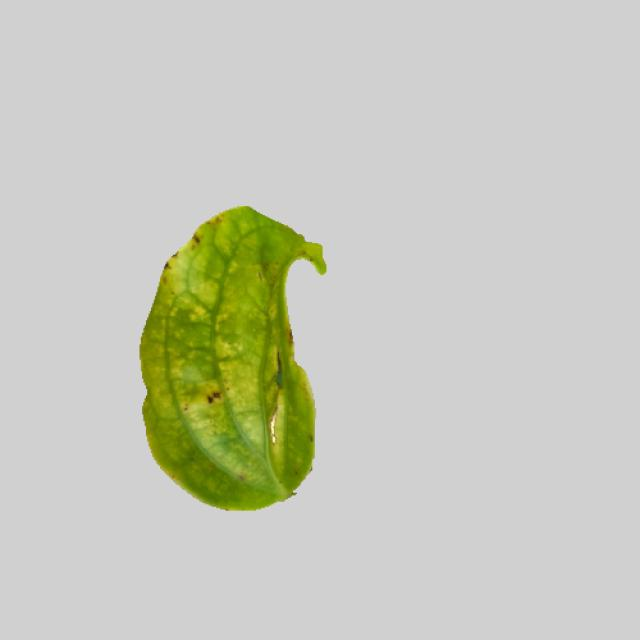yellow-mottle-virus: (127, 200, 334, 507)
